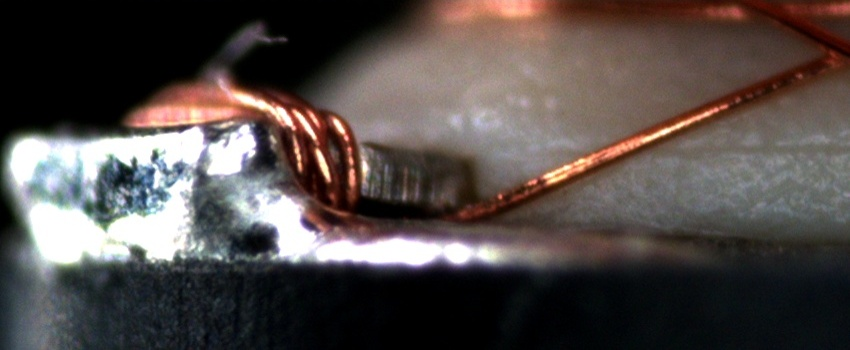CL: (798, 24, 849, 77)
DL: (546, 121, 850, 175)
TE: (120, 66, 368, 215)
